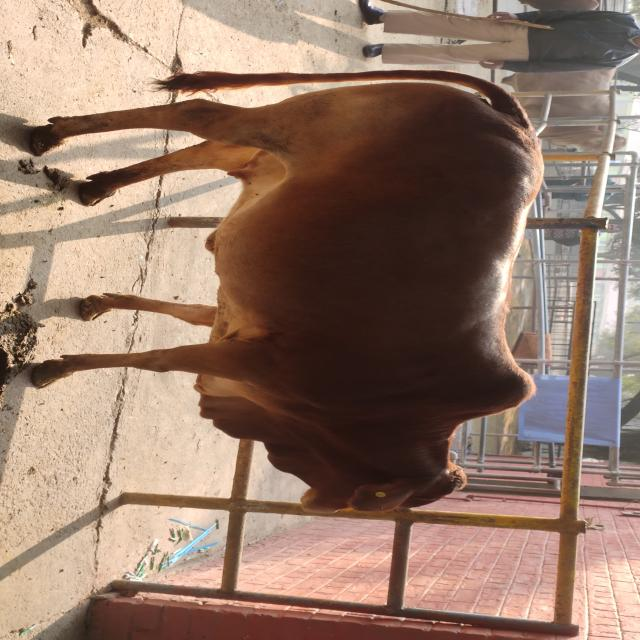cow: (27, 69, 546, 515)
hump: (451, 352, 539, 426)
